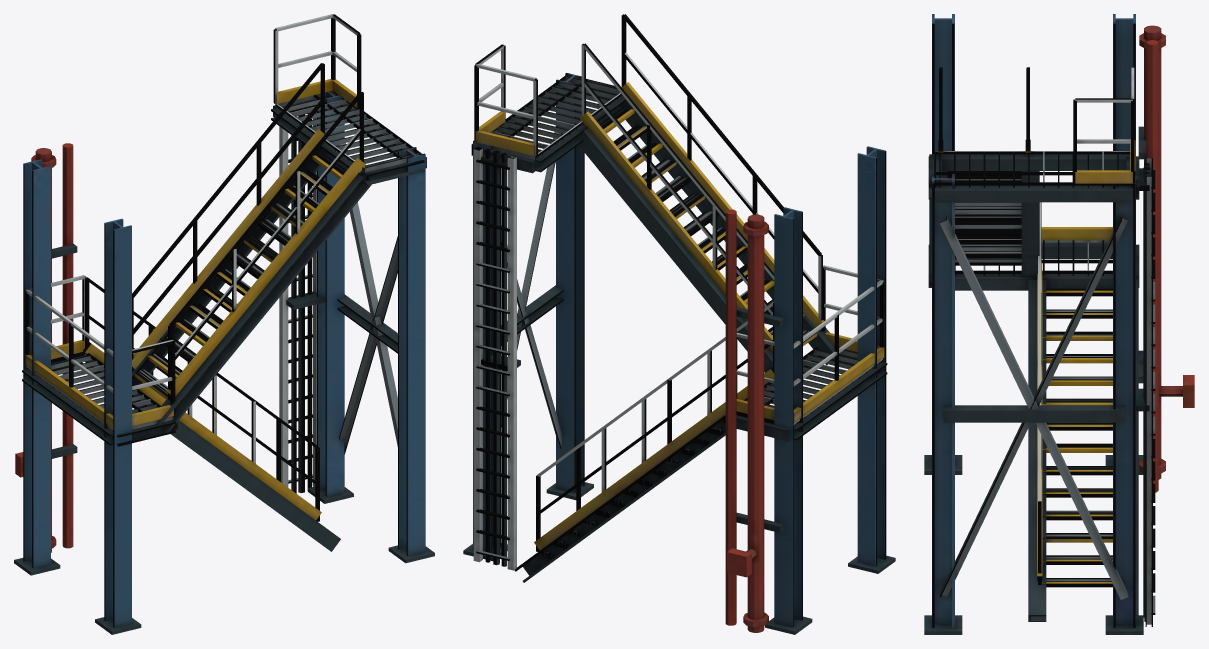
Rendered from access_stairtower_v5.glb.
3 views of the same model, side by side, from view 1: azimuth 30°, elevation 25°; view 2: azimuth 150°, elevation 25°; view 3: azimuth 270°, elevation 25° (orthographic). The views are drawn at different scales.
Visible parts, largest first — view 1: body; view 2: body; view 3: body.
Boxes of the visible parts, left/top/right/bottom form: body: left=14, top=14, right=434, bottom=634; body: left=463, top=14, right=895, bottom=634; body: left=924, top=14, right=1194, bottom=634.
Size of the model in its own units: 5.06 by 7.36 by 3.28.
1 material, 1 textured.
